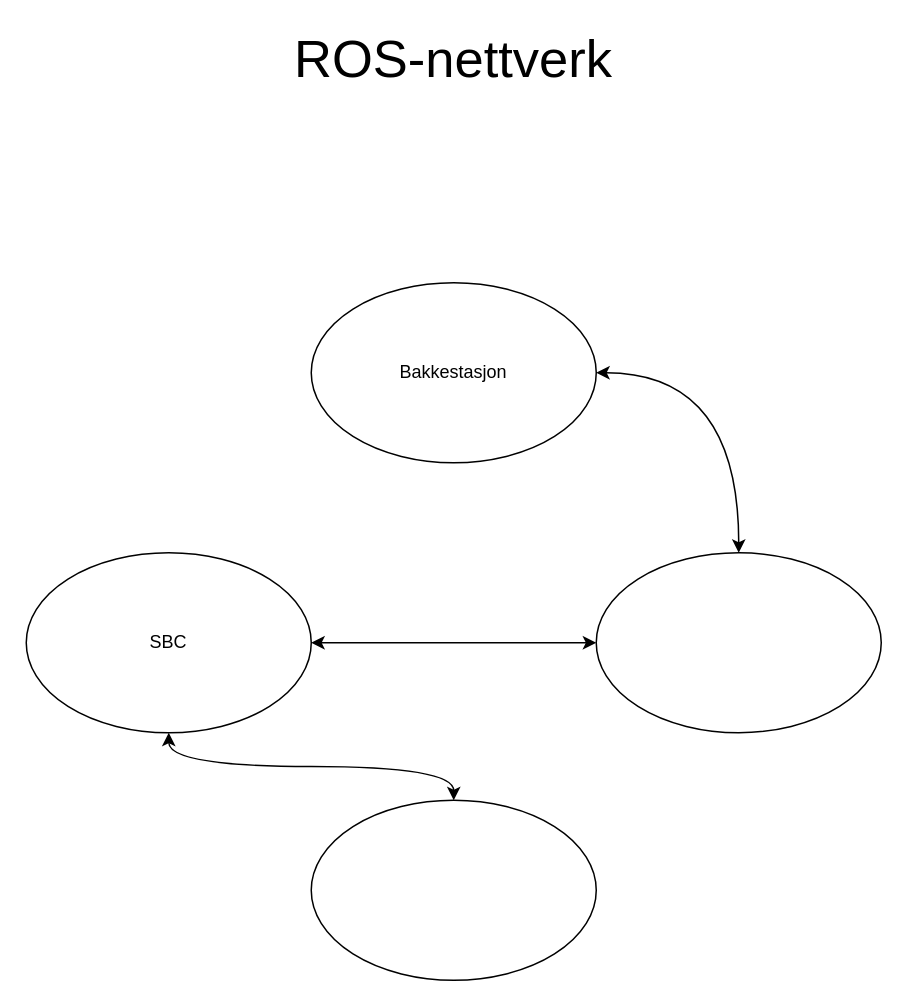
Image size: 908x1007. Some labels were removed from this diagram. The centre of each missing label's shape, as x and y in pixels:
"Pixhawk" goes at point (453, 889).
"Utskytningsenhet" goes at point (738, 642).
